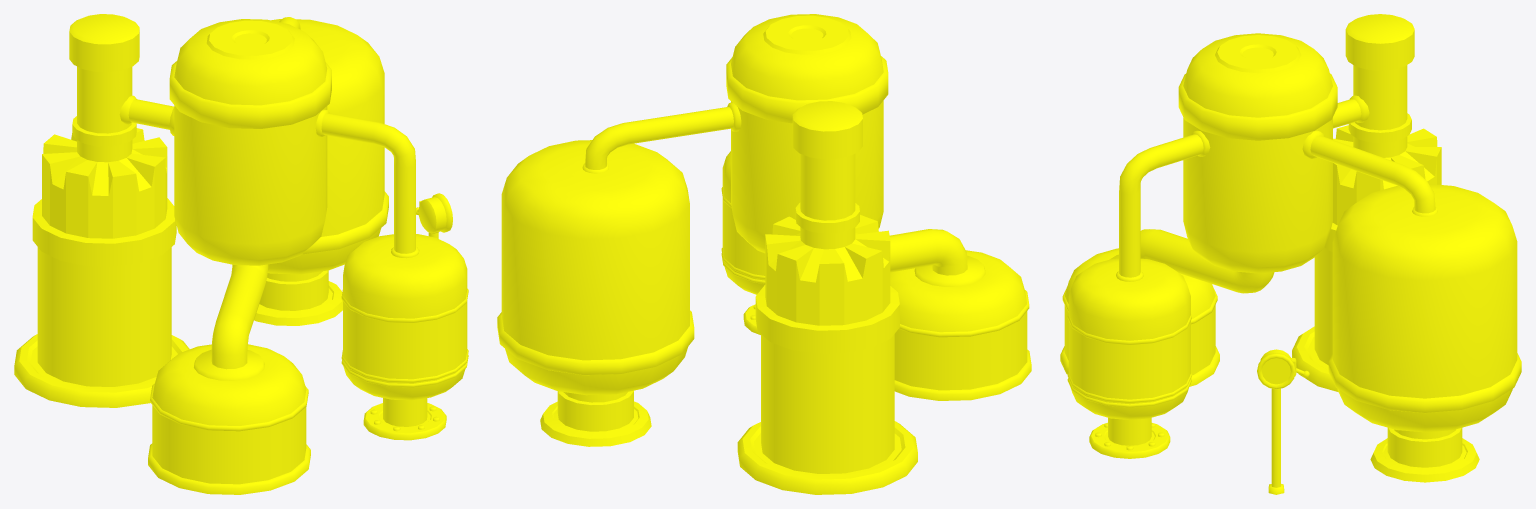
The model's file is tank_system_mx_1.glb.
The picture shows the model from 3 angles, left to right: view 1: azimuth 30°, elevation 25°; view 2: azimuth 150°, elevation 25°; view 3: azimuth 270°, elevation 25°; orthographic projection. The views are drawn at different scales.
Visible parts, largest first — view 1: tank_system_mx_1; view 2: tank_system_mx_1; view 3: tank_system_mx_1.
Part boxes in pixels (left/top/right/bottom): tank_system_mx_1: left=14, top=14, right=468, bottom=494; tank_system_mx_1: left=497, top=14, right=1031, bottom=494; tank_system_mx_1: left=1060, top=14, right=1521, bottom=494.
Bounding box in the file's own units: 2.61 × 2.39 × 2.87.
Materials: 1 (1 with a texture image).
